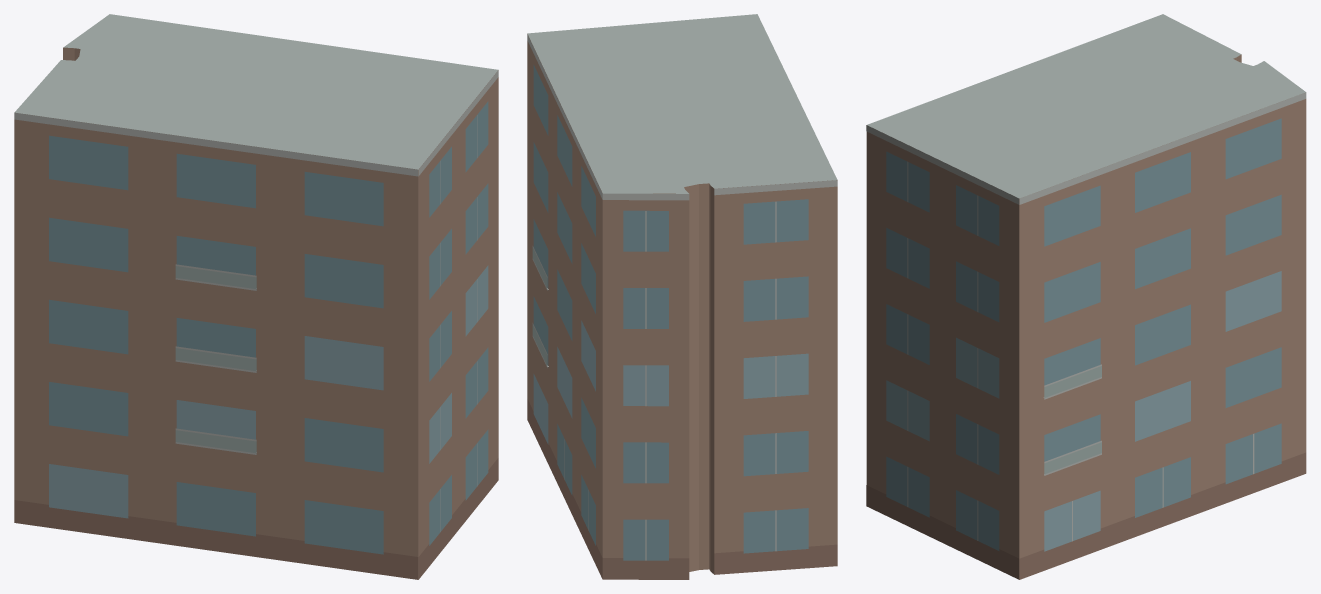
The model's file is survey-upis-32973704.glb.
The picture shows the model from 3 angles, left to right: view 1: azimuth 30°, elevation 25°; view 2: azimuth 150°, elevation 25°; view 3: azimuth 270°, elevation 25°; orthographic projection. The views are drawn at different scales.
Parts seen in each view (by area): view 1: survey-upis-32973704.tmp; view 2: survey-upis-32973704.tmp; view 3: survey-upis-32973704.tmp.
Boxes of the visible parts, x1,y1,x2,y2 form: survey-upis-32973704.tmp: (14,14,498,579); survey-upis-32973704.tmp: (527,14,837,579); survey-upis-32973704.tmp: (866,14,1306,579).
Size of the model in its own units: 15.01 by 14.45 by 15.11.
